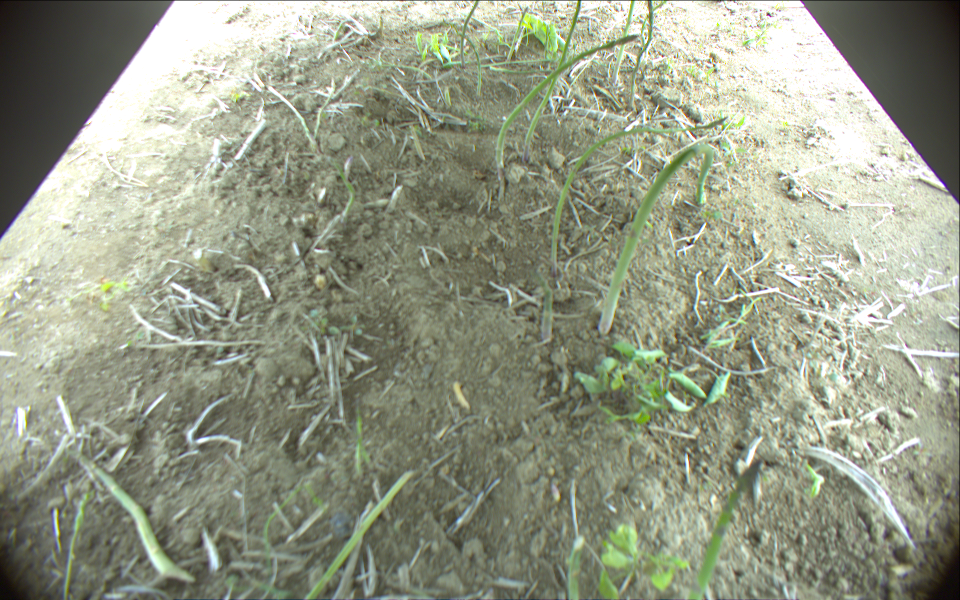aspa: (547, 116, 728, 272), (494, 32, 641, 203), (596, 143, 716, 336), (70, 440, 194, 583), (302, 468, 417, 599), (686, 459, 765, 600), (524, 1, 582, 163), (60, 492, 91, 600), (631, 1, 655, 108), (610, 1, 636, 88), (640, 1, 666, 72), (328, 157, 355, 219), (507, 6, 530, 61), (566, 535, 586, 598), (461, 34, 481, 95), (460, 1, 478, 68), (446, 47, 507, 66), (370, 62, 434, 79), (540, 287, 554, 342), (332, 18, 347, 43), (374, 11, 384, 37)
